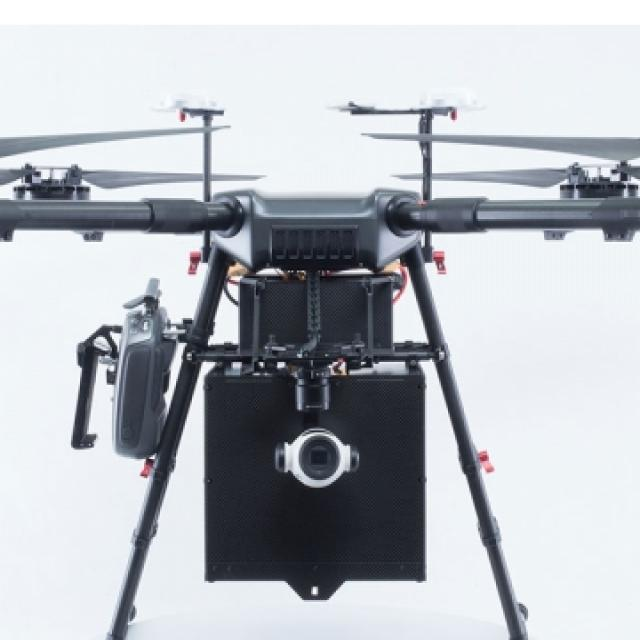drone: (0, 92, 640, 358)
